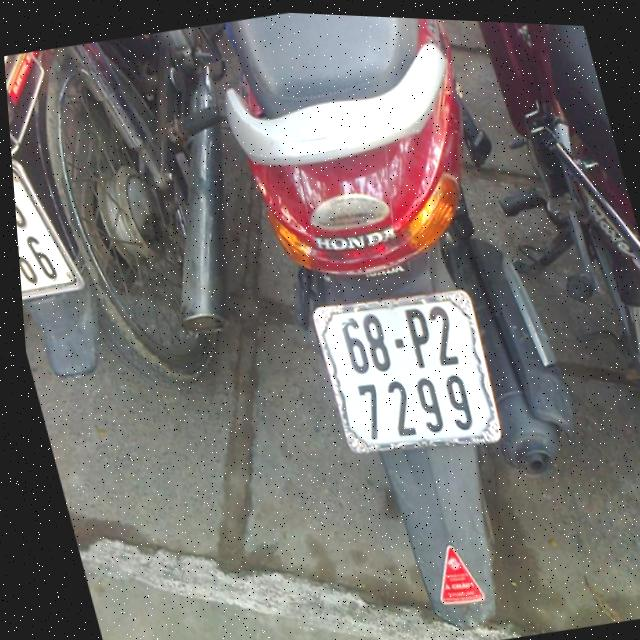motorcycle: (198, 9, 637, 640), (1, 15, 307, 428), (443, 20, 640, 589)
plate: (301, 275, 515, 479), (11, 153, 89, 309)
